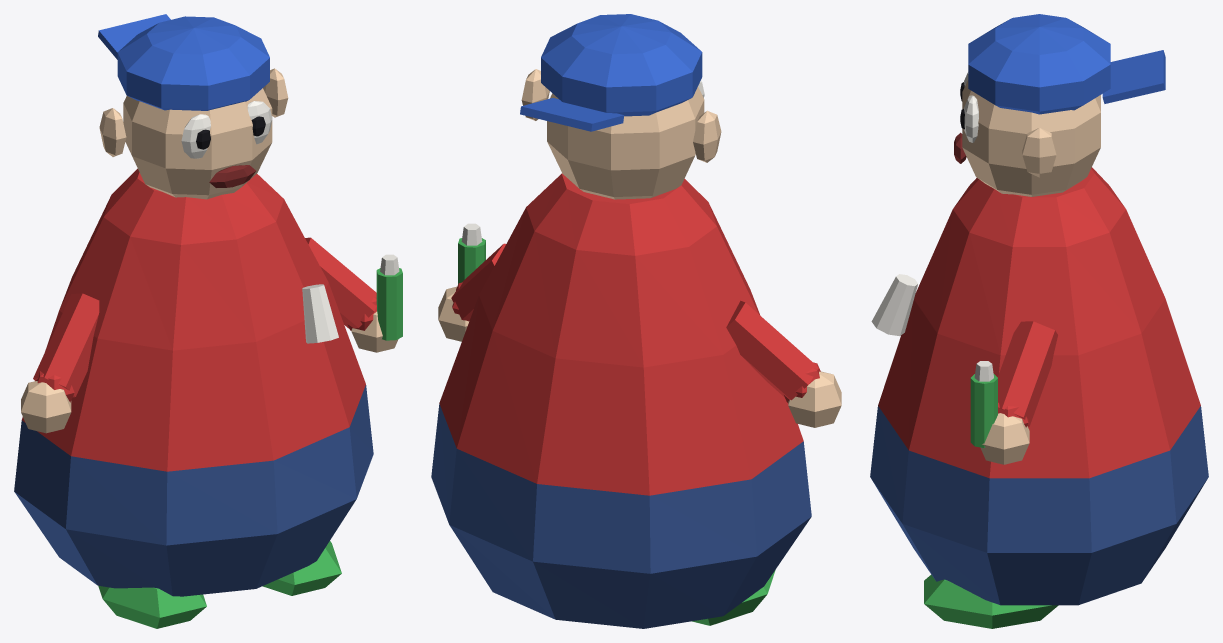
File: npc_pipo.glb
The picture shows the model from 3 angles, left to right: view 1: azimuth 30°, elevation 25°; view 2: azimuth 150°, elevation 25°; view 3: azimuth 270°, elevation 25°; orthographic projection. The views are drawn at different scales.
Visible parts, largest first — view 1: body_pipo_polo, body_pipo_jeans, cap_pipo_cap, head_skin_crema, arms_pipo_polo, legs_pipo_shoes, arms_skin_crema, ears_skin_crema, spray_spray_can, logo_pin_white, face_white, face_mouth; view 2: body_pipo_polo, body_pipo_jeans, cap_pipo_cap, head_skin_crema, arms_pipo_polo, arms_skin_crema, ears_skin_crema, spray_spray_can, legs_pipo_shoes; view 3: body_pipo_polo, body_pipo_jeans, cap_pipo_cap, head_skin_crema, arms_pipo_polo, legs_pipo_shoes, arms_skin_crema, logo_pin_white, spray_spray_can, ears_skin_crema, face_white.
Part boxes in pixels (box(x1,y1,x2,y2)): body_pipo_polo: box(22, 168, 365, 471); body_pipo_jeans: box(14, 385, 373, 596); cap_pipo_cap: box(98, 14, 269, 110); head_skin_crema: box(123, 88, 272, 199); arms_pipo_polo: box(33, 237, 376, 402); legs_pipo_shoes: box(98, 541, 341, 628); arms_skin_crema: box(21, 311, 398, 433); ears_skin_crema: box(99, 68, 288, 156); spray_spray_can: box(376, 268, 402, 340); logo_pin_white: box(302, 284, 338, 343); face_white: box(181, 101, 272, 158); face_mouth: box(209, 165, 255, 187); body_pipo_polo: box(439, 173, 803, 495); body_pipo_jeans: box(431, 404, 811, 628); cap_pipo_cap: box(520, 14, 702, 131); head_skin_crema: box(547, 86, 704, 199); arms_pipo_polo: box(451, 243, 820, 402); arms_skin_crema: box(438, 286, 841, 427); ears_skin_crema: box(521, 69, 721, 162); spray_spray_can: box(458, 238, 485, 284); legs_pipo_shoes: box(692, 570, 775, 625); body_pipo_polo: box(878, 167, 1200, 478); body_pipo_jeans: box(870, 406, 1208, 605); cap_pipo_cap: box(968, 14, 1165, 114); head_skin_crema: box(962, 80, 1100, 196); arms_pipo_polo: box(997, 321, 1057, 427); legs_pipo_shoes: box(924, 574, 1058, 628); arms_skin_crema: box(980, 413, 1029, 464); logo_pin_white: box(871, 274, 917, 336); spray_spray_can: box(970, 374, 997, 447); ears_skin_crema: box(1022, 128, 1056, 177); face_white: box(964, 72, 978, 142).
Size of the model in its own units: 1.13 by 1.57 by 0.86.
